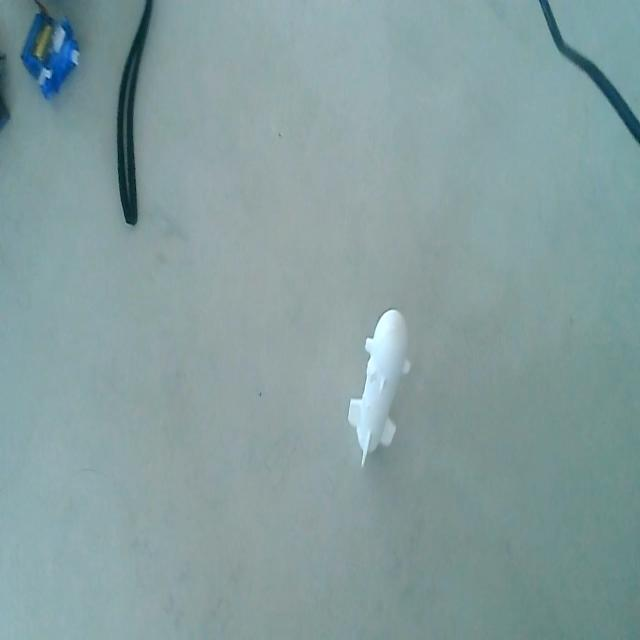Rocket: (348, 306, 416, 474)
